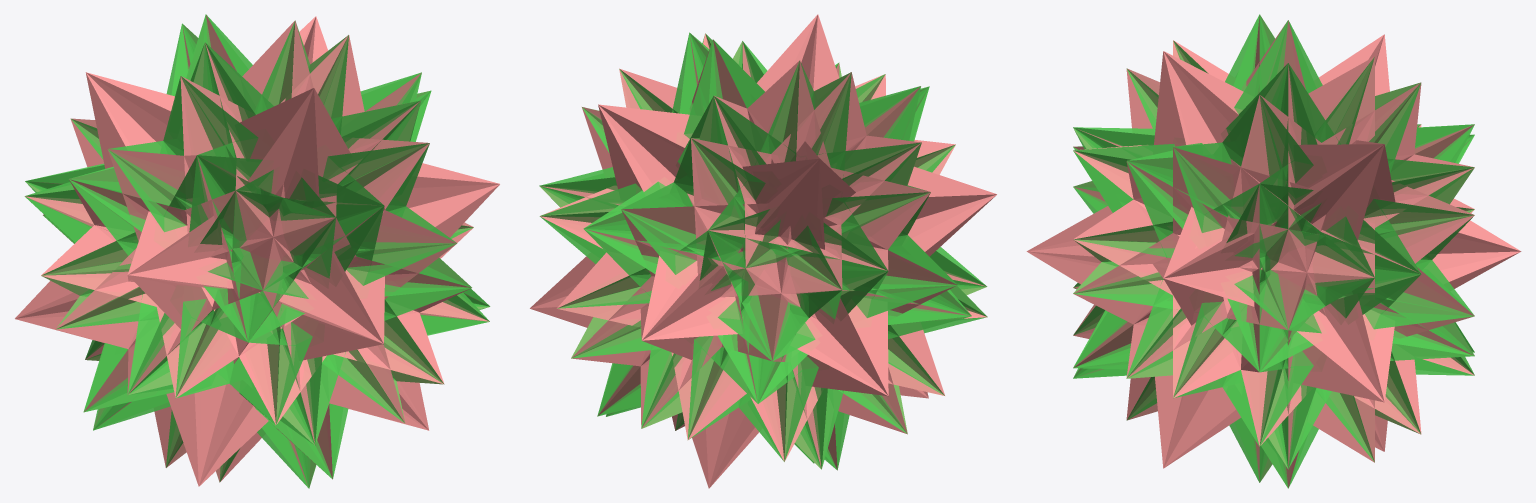
File: 46_Dodekexcavated_Sirsid.obj
The picture shows the model from 3 angles, left to right: view 1: azimuth 30°, elevation 25°; view 2: azimuth 150°, elevation 25°; view 3: azimuth 270°, elevation 25°; orthographic projection. The views are drawn at different scales.
Size of the model in its own units: 1.15 by 1.13 by 1.21.
